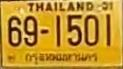0: (83, 14, 98, 45)
1: (105, 14, 110, 46), (55, 15, 60, 46)
5: (67, 14, 82, 45)
6: (7, 15, 21, 46)
9: (23, 15, 37, 46)
BKK: (23, 51, 100, 63)
